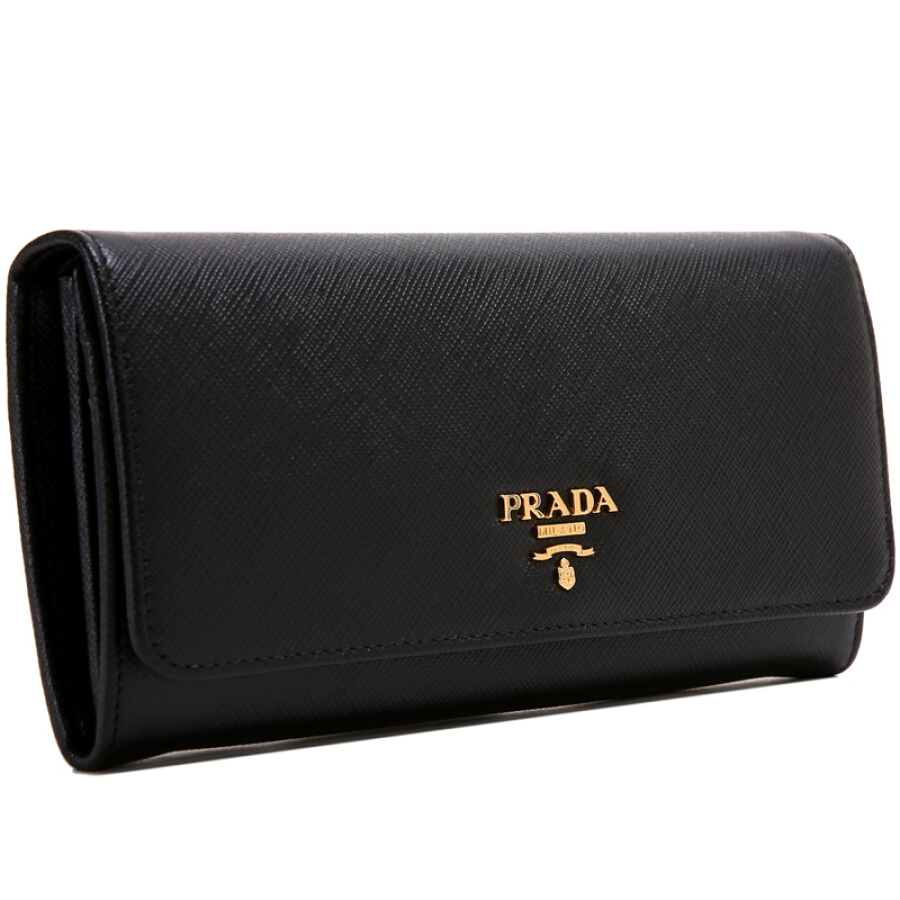Prada: (484, 481, 627, 527)
